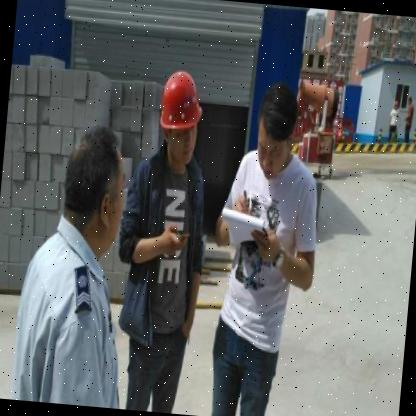capacete: (156, 66, 207, 140)
